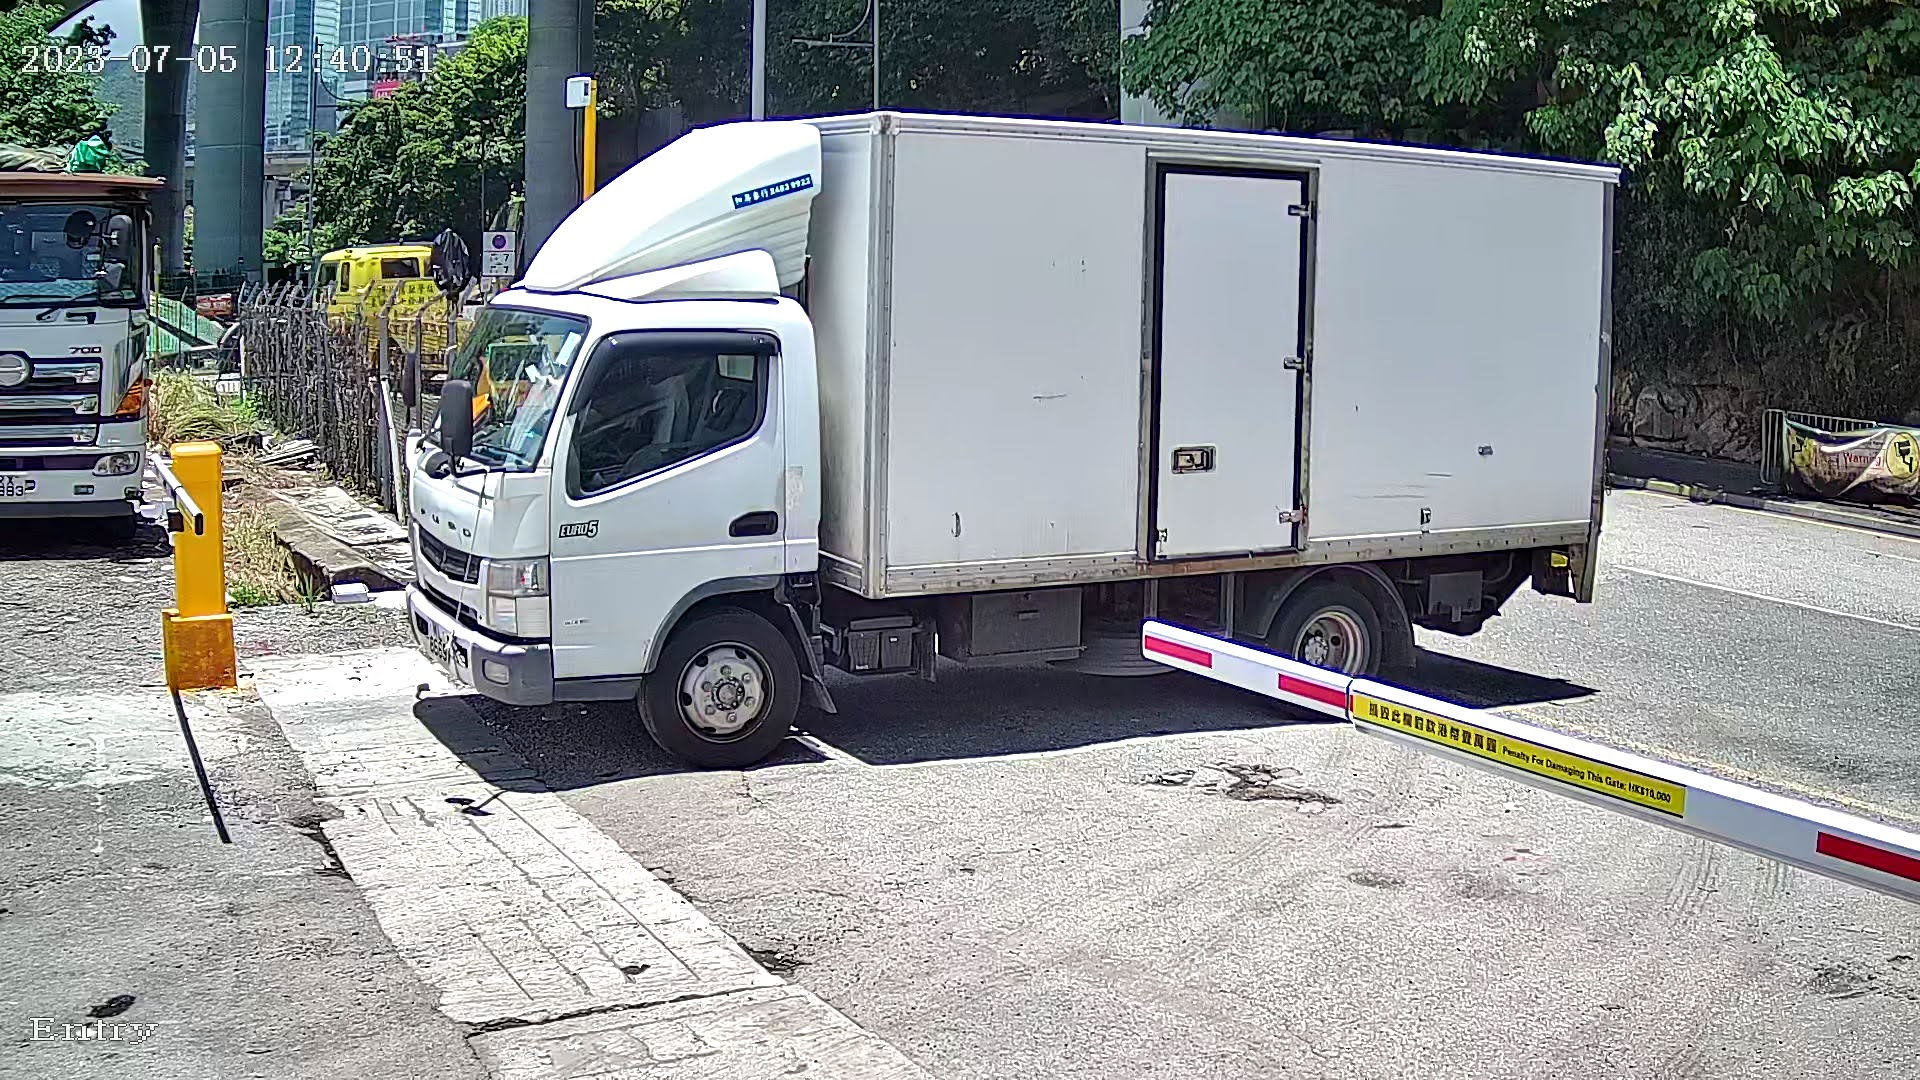truck: (293, 37, 1671, 802)
